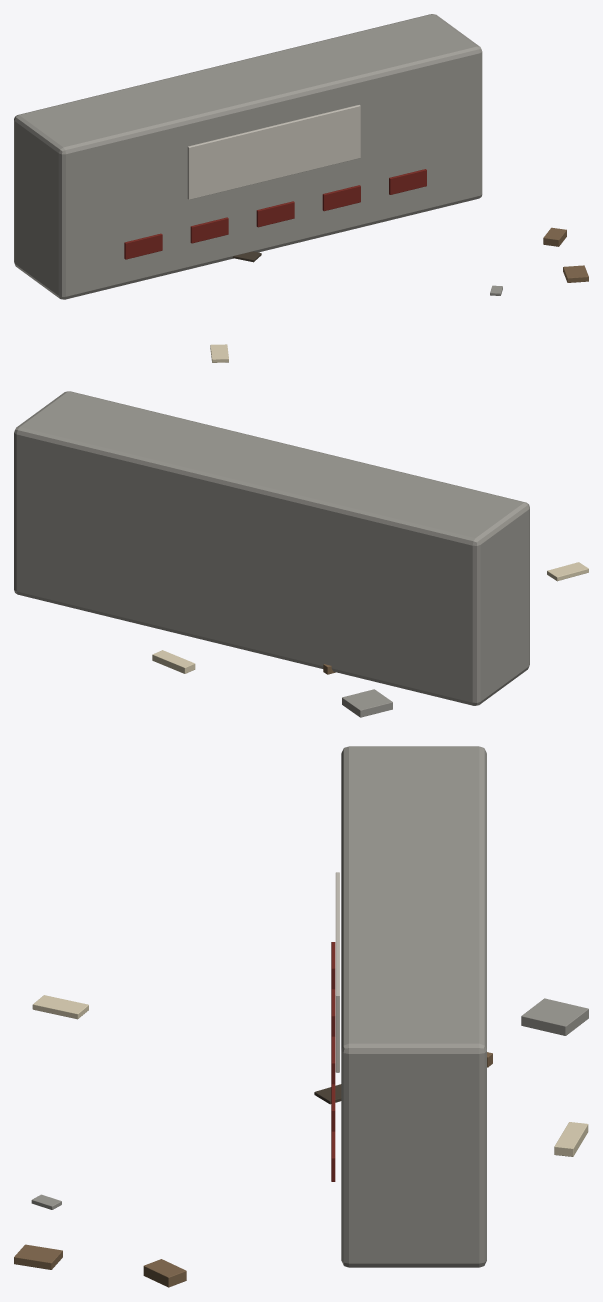
Rendered from dz_barricade_concrete_quarantine_premium.glb.
3 renders of one model, top to bottom at view 1: azimuth 30°, elevation 25°; view 2: azimuth 150°, elevation 25°; view 3: azimuth 270°, elevation 25°, orthographic. The views are drawn at different scales.
Visible parts, largest first — view 1: heavy_concrete_block_quarantine, painted_zone_de_quarantaine, red_chevron_0, red_chevron_1, red_chevron_3, red_chevron_2, red_chevron_4; view 2: heavy_concrete_block_quarantine, concrete_debris_06, concrete_debris_07, concrete_debris_09; view 3: heavy_concrete_block_quarantine, concrete_debris_06, painted_zone_de_quarantaine, concrete_debris_02, concrete_debris_09, concrete_debris_03, concrete_debris_07.
Part boxes in pixels (x1,y1,x2,y2): heavy_concrete_block_quarantine: (14,14,482,299); painted_zone_de_quarantaine: (187,105,360,199); red_chevron_0: (124,233,162,259); red_chevron_1: (190,217,228,243); red_chevron_3: (322,185,360,211); red_chevron_2: (256,201,294,227); red_chevron_4: (389,169,426,194); heavy_concrete_block_quarantine: (14,391,529,705); concrete_debris_06: (342,689,392,717); concrete_debris_07: (152,650,195,673); concrete_debris_09: (547,562,588,581); heavy_concrete_block_quarantine: (341,746,486,1267); concrete_debris_06: (521,998,588,1035); painted_zone_de_quarantaine: (335,872,339,1072); concrete_debris_02: (14,1244,62,1269); concrete_debris_09: (32,995,88,1019); concrete_debris_03: (143,1259,186,1287); concrete_debris_07: (554,1122,588,1156).
Size of the model in its own units: 3.38 by 1.1 by 2.56.
